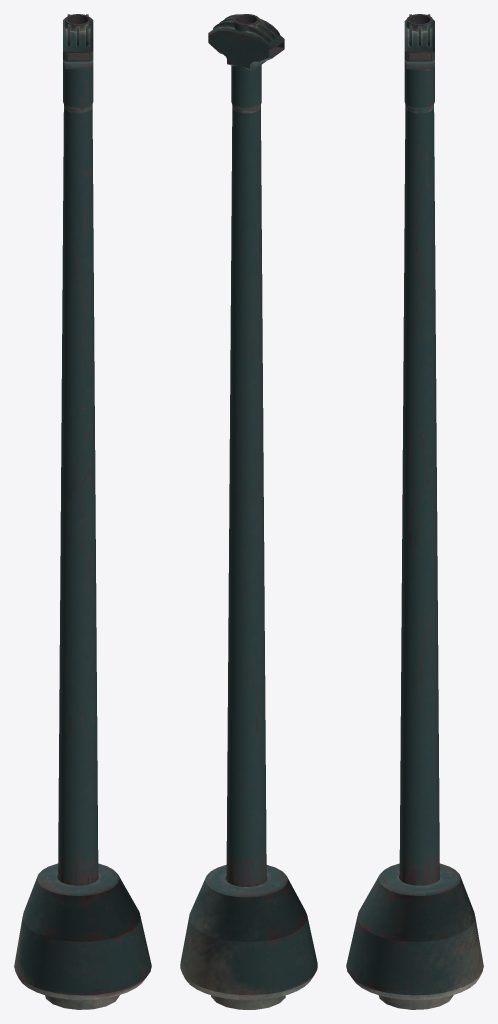
Rendered from Gun_02.glb.
3 renders of one model, left to right at view 1: azimuth 90°, elevation 25°; view 2: azimuth 150°, elevation 25°; view 3: azimuth 270°, elevation 25°, orthographic.
Visible parts, largest first — view 1: set_0_group_0; view 2: set_0_group_0; view 3: set_0_group_0.
Boxes of the visible parts, x1,y1,x2,y2 form: set_0_group_0: [14, 14, 151, 1009]; set_0_group_0: [180, 14, 317, 1009]; set_0_group_0: [346, 14, 483, 1009].
Bounding box in the file's own units: 0.7684 × 6 × 0.7686.
Materials: 1 (1 with a texture image).
